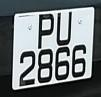2: (17, 49, 38, 88)
6: (53, 45, 71, 82), (72, 41, 88, 81)
8: (36, 48, 55, 85)
P: (35, 10, 56, 50)
U: (54, 10, 74, 49)
